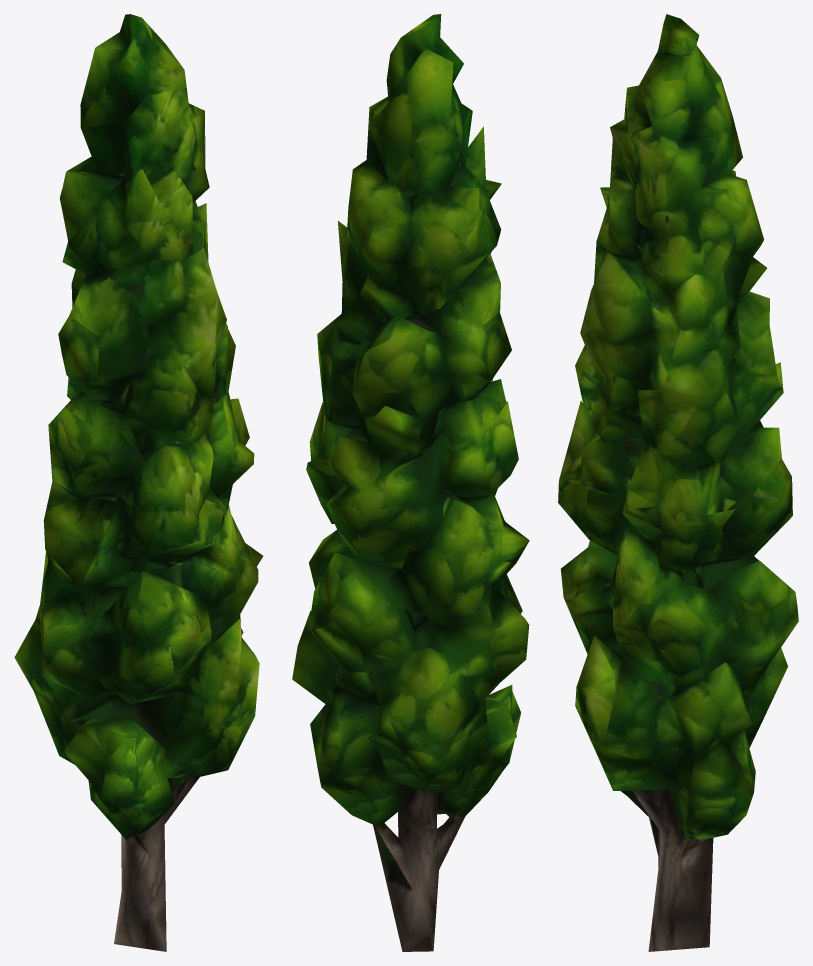
Rendered from tree-poplar.glb.
The picture shows the model from 3 angles, left to right: view 1: azimuth 30°, elevation 25°; view 2: azimuth 150°, elevation 25°; view 3: azimuth 270°, elevation 25°; orthographic projection.
Parts seen in each view (by area): view 1: tree-poplar; view 2: tree-poplar; view 3: tree-poplar.
Boxes of the visible parts, x1=… form: tree-poplar: x1=14, y1=14, x2=263, y2=951; tree-poplar: x1=292, y1=14, x2=529, y2=951; tree-poplar: x1=558, y1=14, x2=798, y2=951.
Bounding box in the file's own units: 2.8 × 11.68 × 2.75.
1 material, 1 textured.
